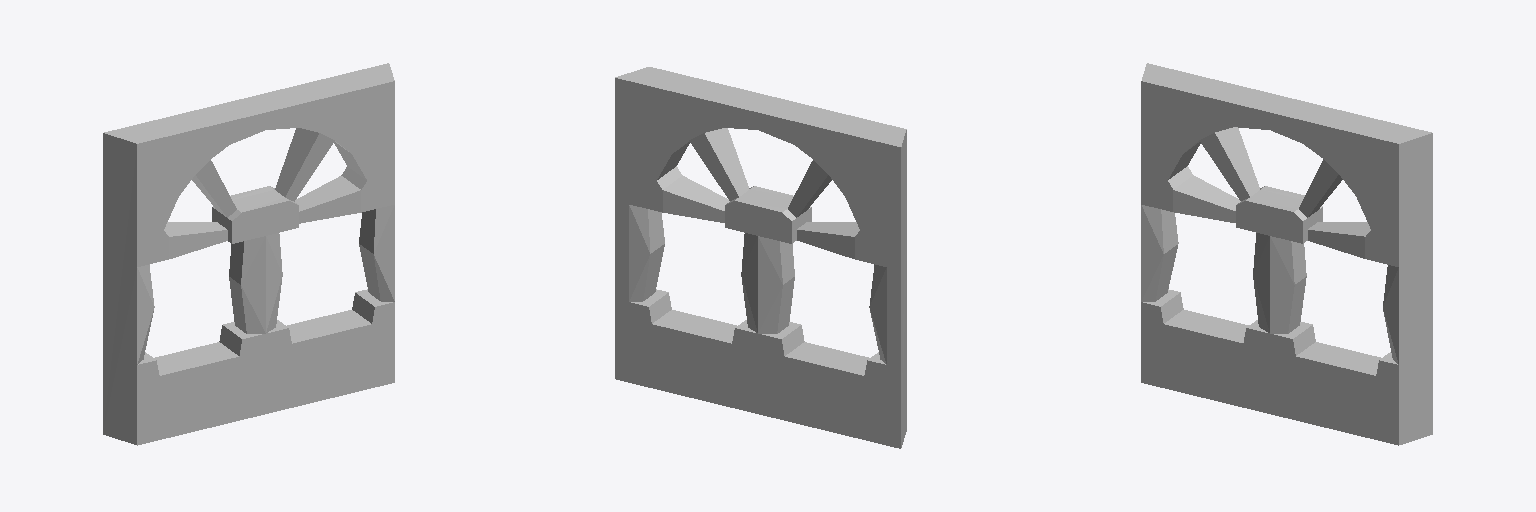
Rendered from P_Modul_03_Wall02.obj.
3 views of the same model, side by side, from view 1: azimuth 30°, elevation 25°; view 2: azimuth 150°, elevation 25°; view 3: azimuth 330°, elevation 25° (orthographic).
Visible parts, largest first — view 1: P_Modul_03_Wall02; view 2: P_Modul_03_Wall02; view 3: P_Modul_03_Wall02.
Boxes of the visible parts, <box> form: P_Modul_03_Wall02: <box>103,63,394,445</box>; P_Modul_03_Wall02: <box>615,67,906,448</box>; P_Modul_03_Wall02: <box>1141,63,1432,445</box>.
Size of the model in its own units: 7.23 by 7.28 by 0.8764.